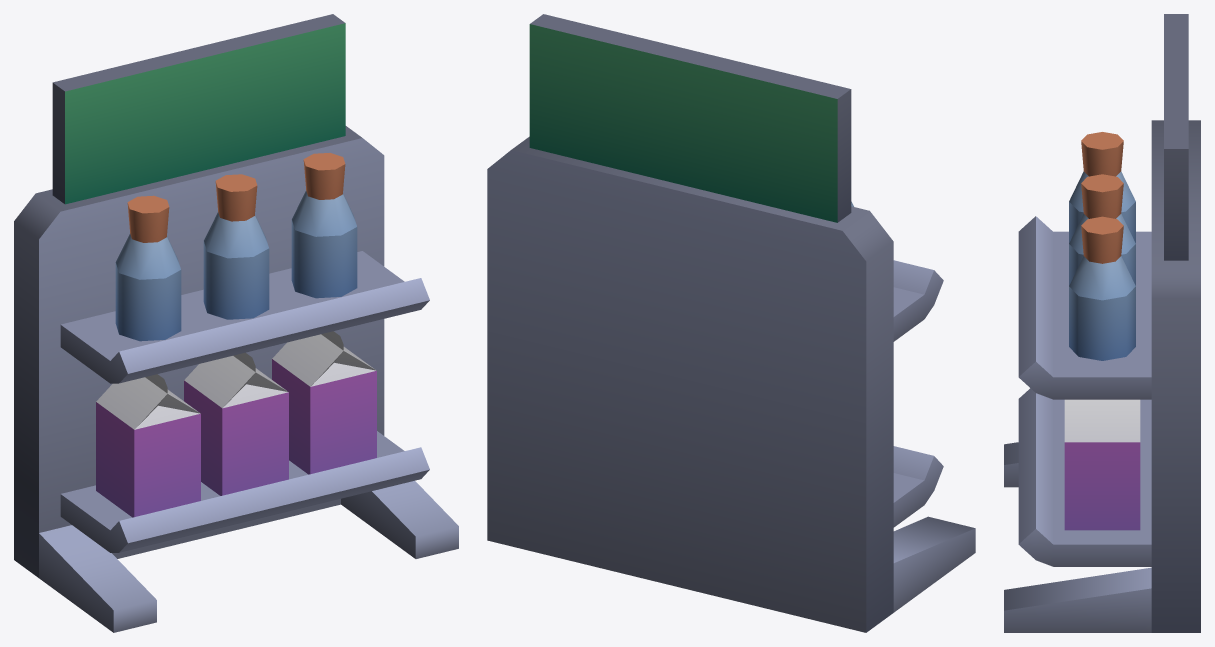
The model's file is shelf-end.glb.
3 renders of one model, left to right at view 1: azimuth 30°, elevation 25°; view 2: azimuth 150°, elevation 25°; view 3: azimuth 270°, elevation 25°, orthographic. The views are drawn at different scales.
Parts seen in each view (by area): view 1: shelf-end, Group, carton (×3), bottle (×3); view 2: shelf-end, Group; view 3: shelf-end, bottle (×3), carton, Group.
Part boxes in pixels (<box>): shelf-end: <box>14,126,458,632</box>; Group: <box>52,14,345,204</box>; carton (×3): <box>96,331,376,517</box>; bottle (×3): <box>115,153,357,341</box>; shelf-end: <box>487,136,975,632</box>; Group: <box>529,14,851,222</box>; shelf-end: <box>1004,120,1200,632</box>; bottle (×3): <box>1069,132,1135,360</box>; carton: <box>1064,399,1140,530</box>; Group: <box>1164,14,1188,260</box>.
Size of the model in its own units: 0.8 by 1.05 by 0.4.
